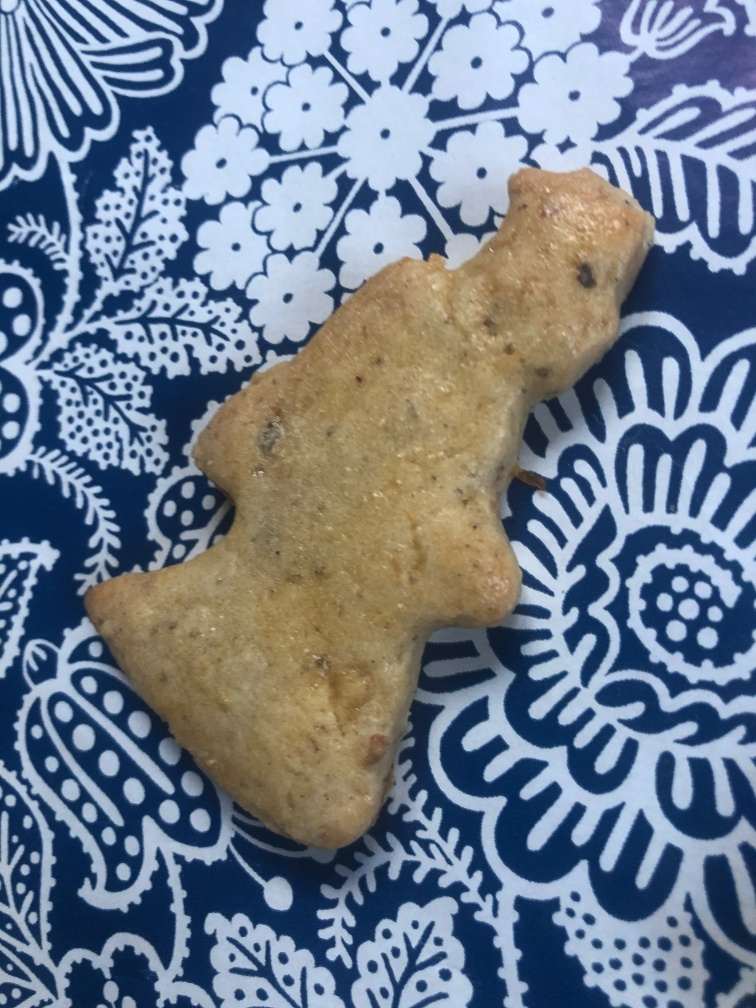king mage: (77, 151, 651, 890)
